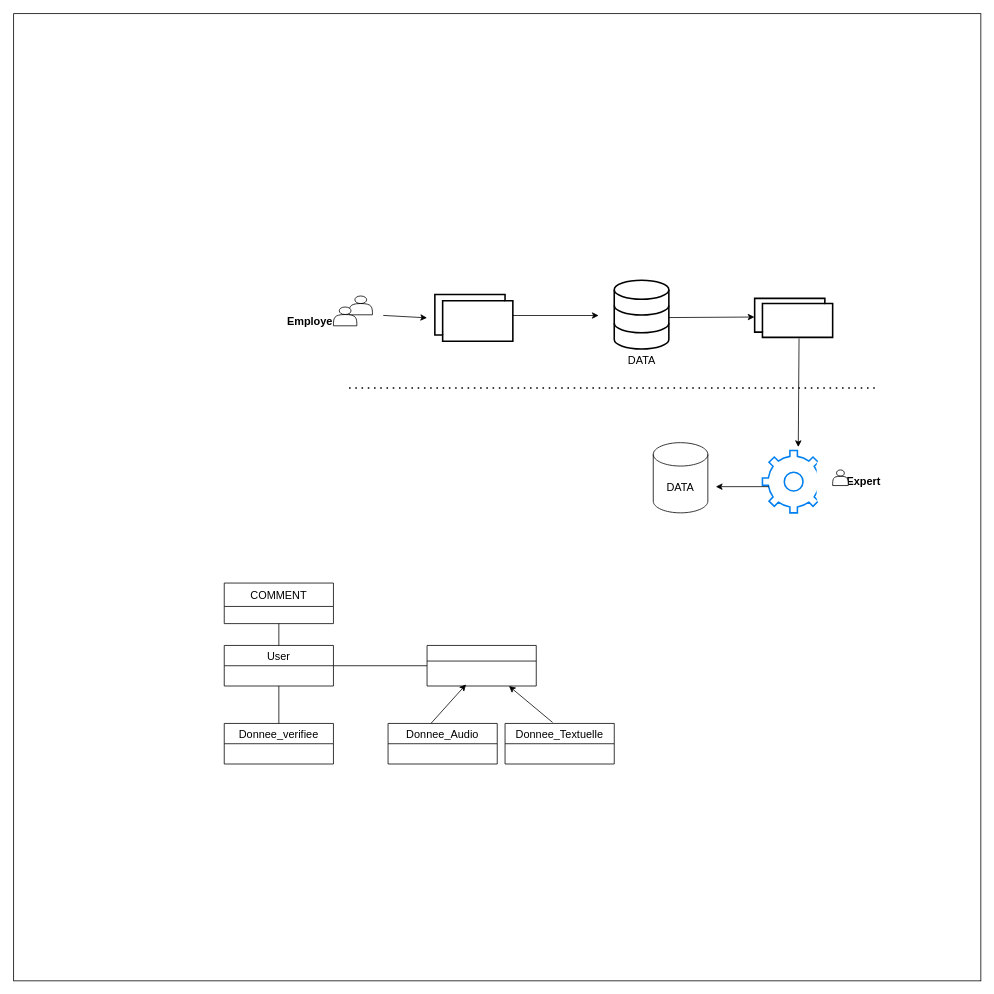
This 994x994 diagram has some shape labels left out. Each missing label, with the centre of its shape:
"Collect" goes at point (473, 317).
"Donnee_collectee" goes at point (481, 665).
"donnees non verifiees" goes at point (793, 317).
"Etape de verification" goes at point (793, 481).
